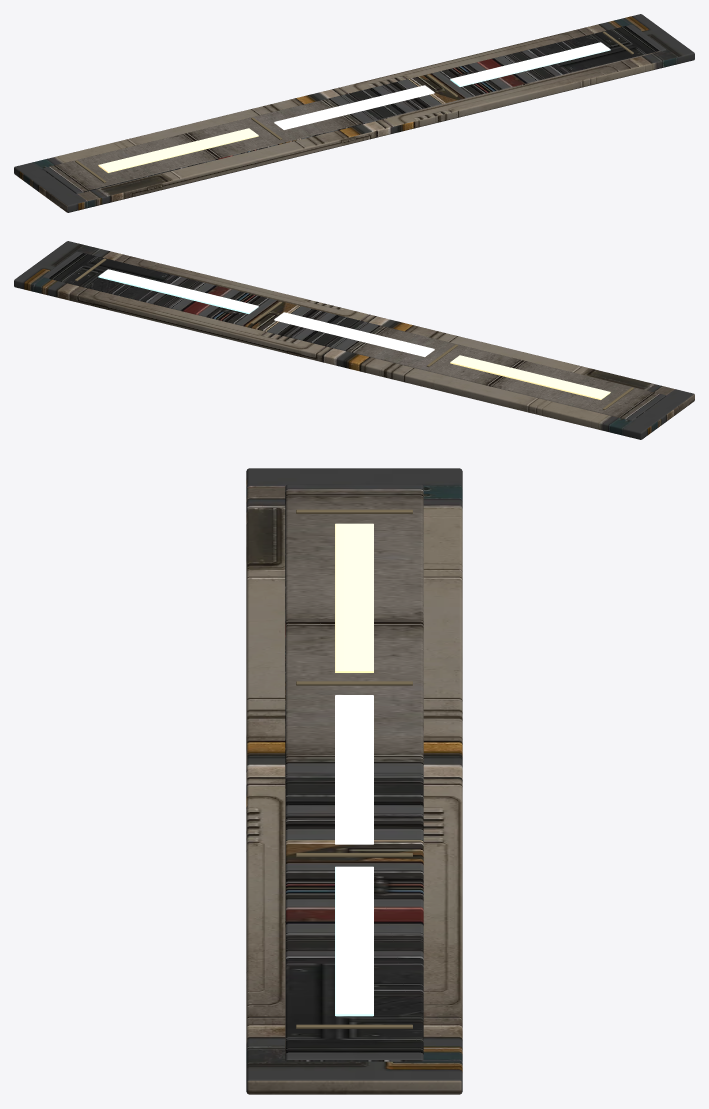
The model's file is hp_room_residential_floor_path_inlay.glb.
The picture shows the model from 3 angles, top to bottom: view 1: azimuth 30°, elevation 25°; view 2: azimuth 150°, elevation 25°; view 3: azimuth 270°, elevation 25°; orthographic projection. The views are drawn at different scales.
Visible parts, largest first — view 1: long_dark_floor_inlay_backer, brushed_route_plate, white_middle_route_segment, cyan_last_route_segment, warm_first_route_segment, floor_path_cross_rib_0; view 2: long_dark_floor_inlay_backer, brushed_route_plate, white_middle_route_segment, cyan_last_route_segment, warm_first_route_segment, floor_path_cross_rib_0; view 3: brushed_route_plate, long_dark_floor_inlay_backer, cyan_last_route_segment, warm_first_route_segment, white_middle_route_segment, floor_path_cross_rib_0.
Boxes of the visible parts, x1,y1,x2,y2 form: long_dark_floor_inlay_backer: (14, 14, 694, 212); brushed_route_plate: (42, 24, 666, 193); white_middle_route_segment: (274, 85, 434, 129); cyan_last_route_segment: (450, 42, 610, 86); warm_first_route_segment: (98, 128, 258, 172); floor_path_cross_rib_0: (75, 31, 633, 182); long_dark_floor_inlay_backer: (14, 241, 694, 439); brushed_route_plate: (42, 251, 666, 420); white_middle_route_segment: (274, 312, 434, 356); cyan_last_route_segment: (98, 269, 258, 313); warm_first_route_segment: (450, 355, 610, 399); floor_path_cross_rib_0: (75, 258, 633, 409); brushed_route_plate: (285, 484, 423, 1061); long_dark_floor_inlay_backer: (246, 468, 462, 1094); cyan_last_route_segment: (335, 866, 373, 1016); warm_first_route_segment: (335, 523, 373, 672); white_middle_route_segment: (335, 695, 373, 844); floor_path_cross_rib_0: (296, 509, 412, 1028).
Size of the model in its own units: 4.72 by 0.0767 by 0.7033.
6 materials, 2 textured.
